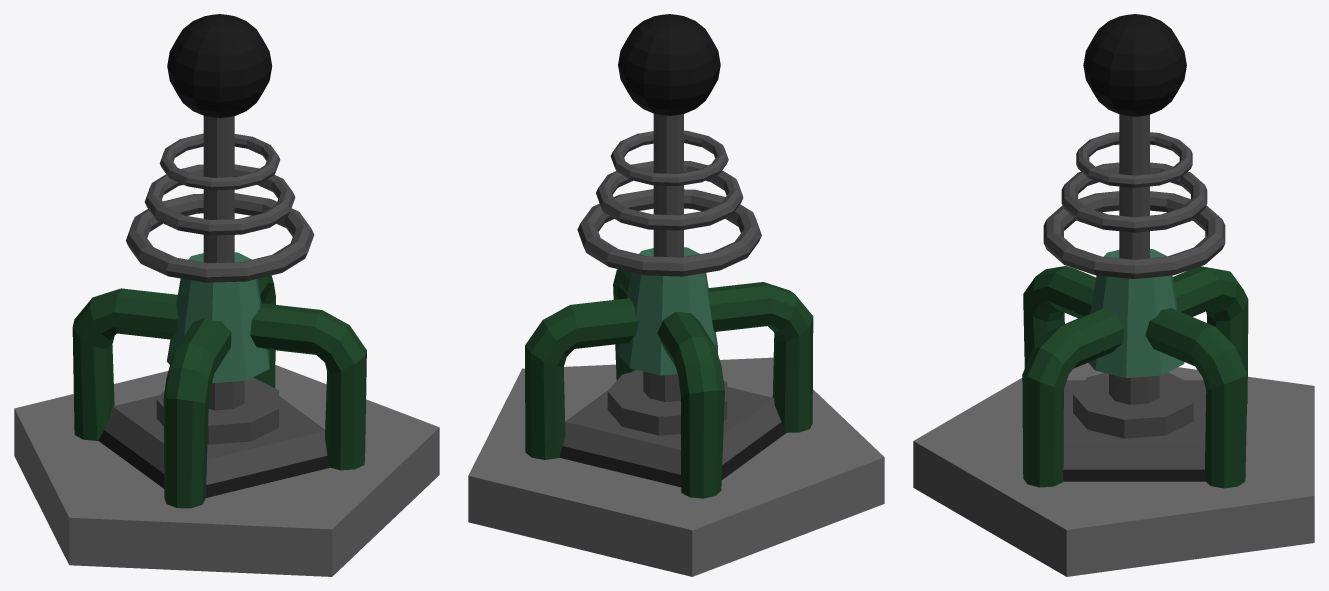
Rendered from Military_Tesla.fbx.
3 views of the same model, side by side, from view 1: azimuth 30°, elevation 25°; view 2: azimuth 150°, elevation 25°; view 3: azimuth 270°, elevation 25° (orthographic). The views are drawn at different scales.
Visible parts, largest first — view 1: Military_Tesla; view 2: Military_Tesla; view 3: Military_Tesla.
Boxes of the visible parts, bbox=[...] form: Military_Tesla: bbox=[14, 14, 439, 576]; Military_Tesla: bbox=[468, 14, 884, 576]; Military_Tesla: bbox=[913, 14, 1314, 576].
Size of the model in its own units: 204 by 250 by 194.
